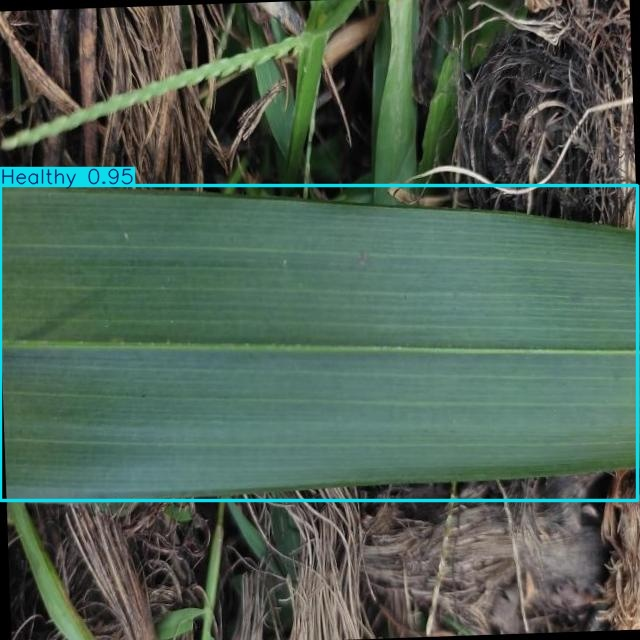Healthy: (0, 186, 637, 501)
